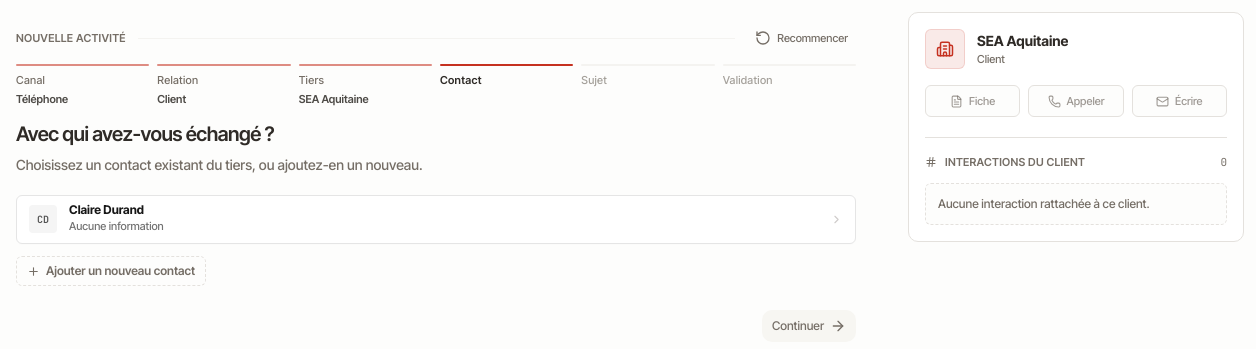
it: CockpitGuidedEntry - dispositif de progression unique › permet de revenir sur une etape franchie depuis le stepper
Click the button "Canal Téléphone" at (83, 85), box [16,64,149,106]
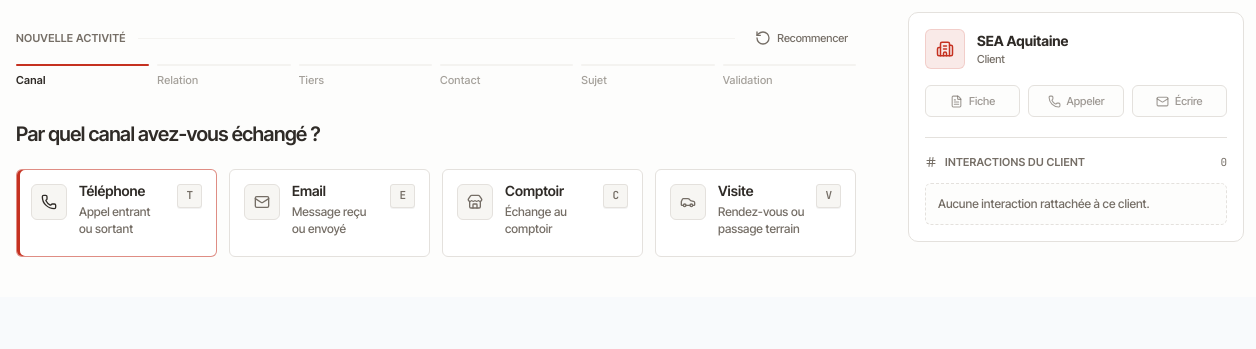
Expected: the heading "Par quel canal avez-vous échangé ?" is shown, [16,122,320,146]
